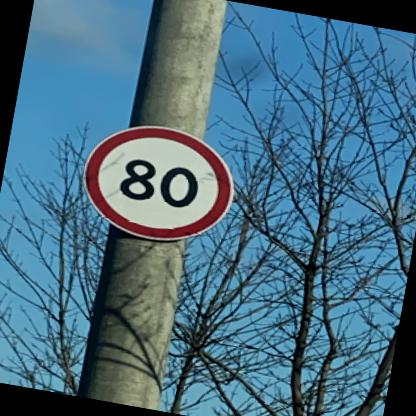speedlimit: (70, 112, 240, 250)
